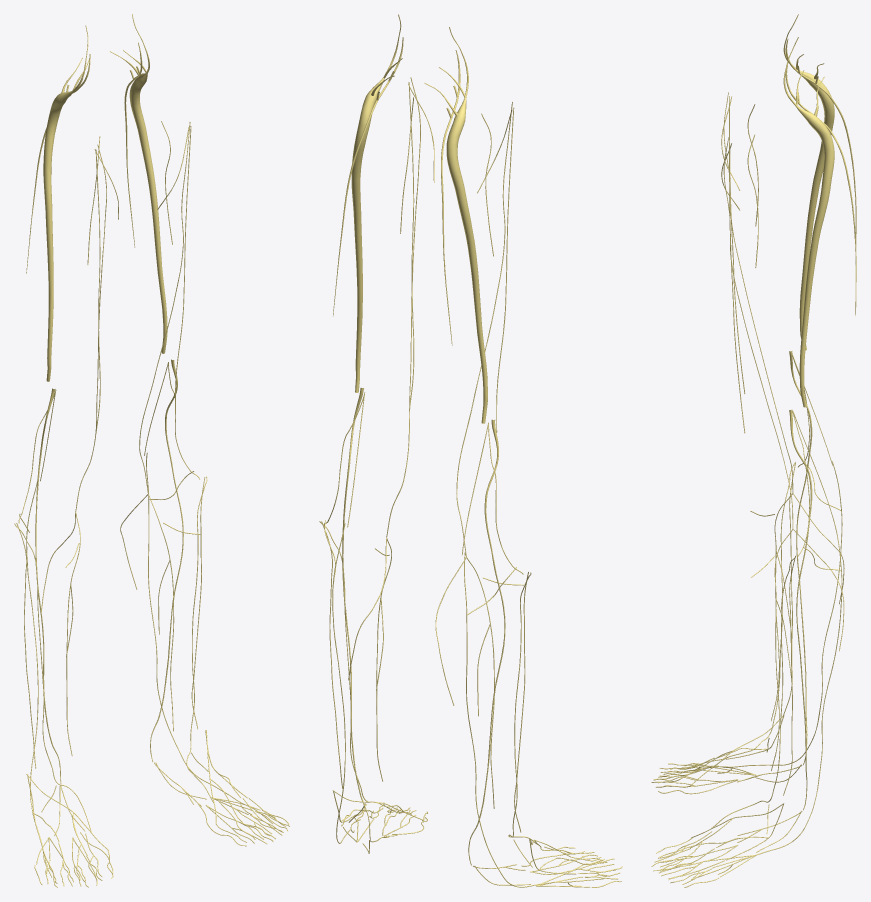
The model's file is nerfs-membre-inf.lo.glb.
The picture shows the model from 3 angles, left to right: view 1: azimuth 30°, elevation 25°; view 2: azimuth 150°, elevation 25°; view 3: azimuth 270°, elevation 25°; orthographic projection. The views are drawn at different scales.
Visible parts, largest first — view 1: ZA-sciatic-nerve-d, ZA-sciatic-nerve-g, ZA-saphenous-nerve-g, ZA-saphenous-nerve-d, ZA-tibial-nerve-g, ZA-tibial-nerve-d, ZA-sural-nerve-g, ZA-sural-nerve-d; view 2: ZA-sciatic-nerve-d, ZA-sciatic-nerve-g, ZA-saphenous-nerve-d, ZA-saphenous-nerve-g, ZA-tibial-nerve-d, ZA-tibial-nerve-g, ZA-sural-nerve-d, ZA-posterior-femoral-cutaneous-nerve-d, ZA-posterior-femoral-cutaneous-nerve-g; view 3: ZA-sciatic-nerve-g, ZA-sciatic-nerve-d, ZA-saphenous-nerve-g, ZA-saphenous-nerve-d, ZA-tibial-nerve-g, ZA-tibial-nerve-d, ZA-sural-nerve-g, ZA-sural-nerve-d, ZA-posterior-femoral-cutaneous-nerve-g, ZA-posterior-femoral-cutaneous-nerve-d, ZA-deep-fibular-nerve-d, ZA-deep-fibular-nerve-g (+1 smaller).
Boxes of the visible parts, box(x1,y1,x2,y2) form: ZA-sciatic-nerve-d: box(43, 25, 89, 381); ZA-sciatic-nerve-g: box(110, 14, 167, 353); ZA-saphenous-nerve-g: box(120, 122, 190, 731); ZA-saphenous-nerve-d: box(41, 144, 106, 755); ZA-tibial-nerve-g: box(150, 359, 183, 761); ZA-tibial-nerve-d: box(35, 388, 61, 784); ZA-sural-nerve-g: box(146, 452, 272, 823); ZA-sural-nerve-d: box(26, 481, 52, 877); ZA-sciatic-nerve-d: box(424, 27, 487, 423); ZA-sciatic-nerve-g: box(351, 14, 402, 392); ZA-saphenous-nerve-d: box(435, 102, 512, 808); ZA-saphenous-nerve-g: box(348, 77, 420, 781); ZA-tibial-nerve-d: box(468, 419, 505, 865); ZA-tibial-nerve-g: box(342, 388, 370, 840); ZA-sural-nerve-d: box(464, 552, 603, 887); ZA-posterior-femoral-cutaneous-nerve-d: box(441, 50, 460, 345); ZA-posterior-femoral-cutaneous-nerve-g: box(333, 37, 403, 316); ZA-sciatic-nerve-g: box(783, 37, 834, 407); ZA-sciatic-nerve-d: box(783, 14, 834, 350); ZA-saphenous-nerve-g: box(723, 137, 844, 771); ZA-saphenous-nerve-d: box(723, 92, 844, 721); ZA-tibial-nerve-g: box(789, 409, 812, 810); ZA-tibial-nerve-d: box(789, 351, 812, 764); ZA-sural-nerve-g: box(691, 515, 842, 879); ZA-sural-nerve-d: box(693, 461, 842, 773); ZA-posterior-femoral-cutaneous-nerve-g: box(785, 62, 856, 315); ZA-posterior-femoral-cutaneous-nerve-d: box(785, 39, 856, 243); ZA-deep-fibular-nerve-d: box(711, 462, 795, 768); ZA-deep-fibular-nerve-g: box(711, 556, 795, 828).
Bounding box in the file's own units: 0.326 × 0.9984 × 0.2318.
